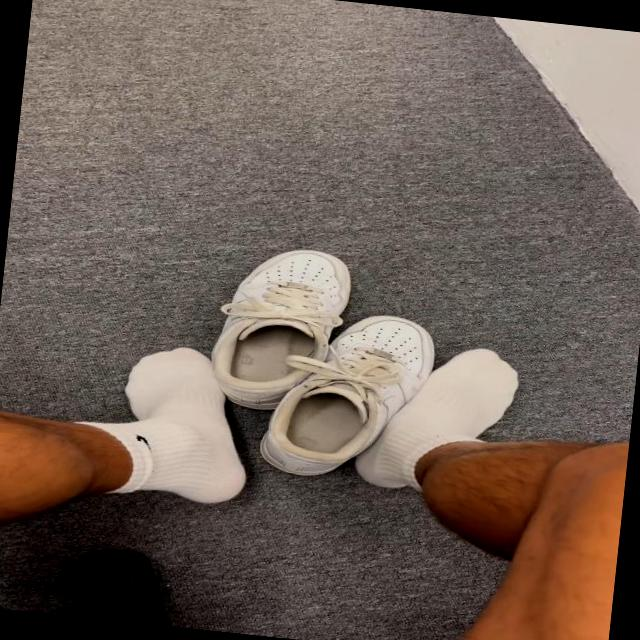nike_original_airforce: (261, 303, 448, 493), (202, 236, 363, 417)
